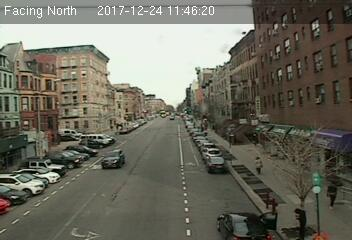car: (216, 209, 269, 240), (100, 149, 125, 167), (206, 156, 226, 172)
pedestrian: (255, 155, 264, 174)
